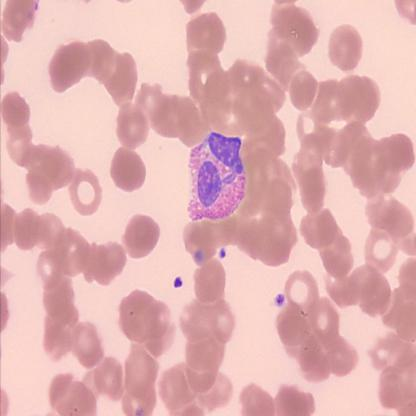Eosinophil: (187, 132, 244, 221)
